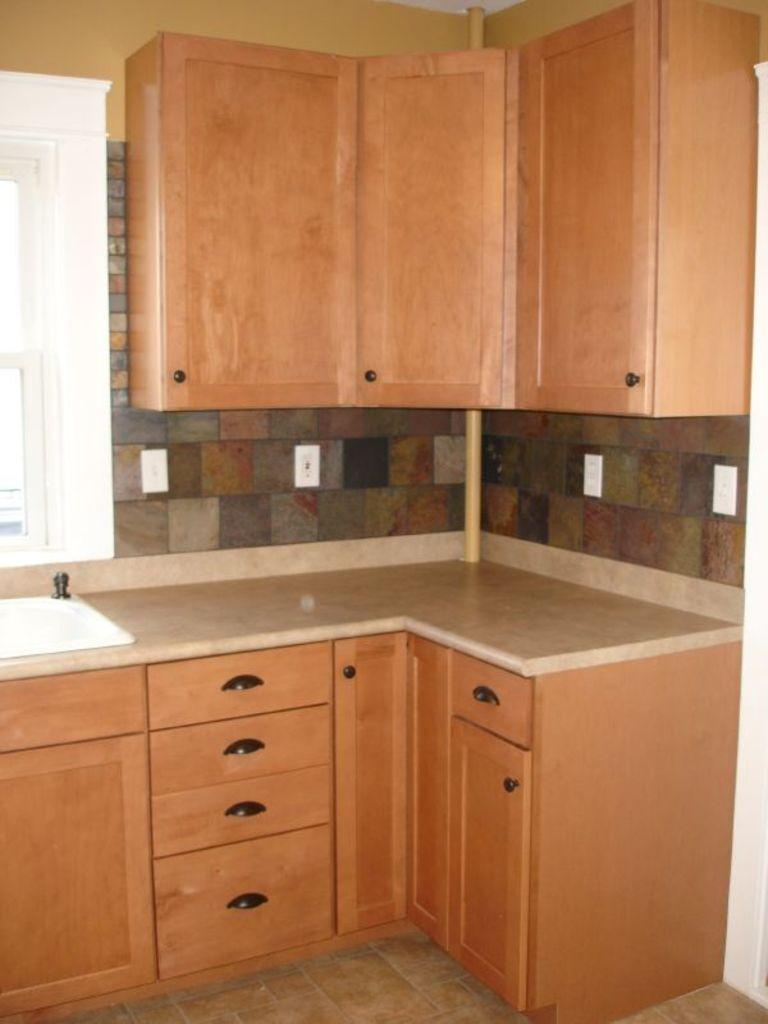cabinet_door: (162, 38, 352, 412), (359, 60, 510, 410), (526, 56, 654, 406), (0, 746, 179, 972), (160, 829, 330, 940), (458, 735, 525, 994), (342, 648, 400, 906), (167, 771, 328, 839), (168, 710, 328, 775), (162, 653, 324, 704), (462, 664, 522, 731)
handle: (219, 664, 268, 698), (228, 880, 266, 923), (466, 672, 506, 712), (225, 790, 267, 828), (222, 726, 264, 756), (501, 774, 521, 804), (174, 356, 189, 396), (342, 651, 359, 684), (623, 362, 639, 396), (364, 364, 383, 391)
